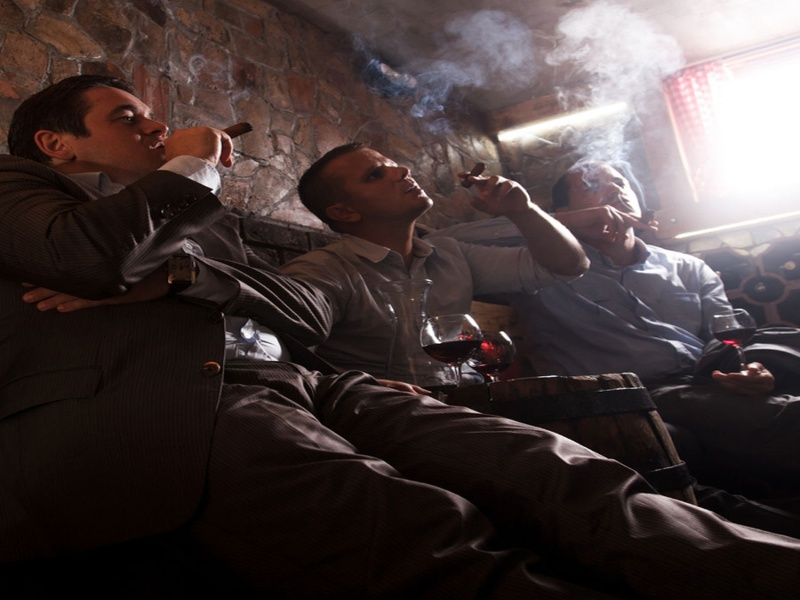smoke: (427, 3, 646, 188)
